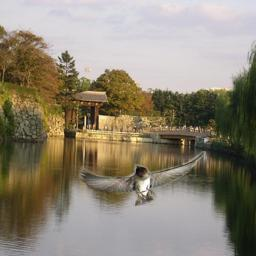Swallow: (78, 151, 206, 206)
